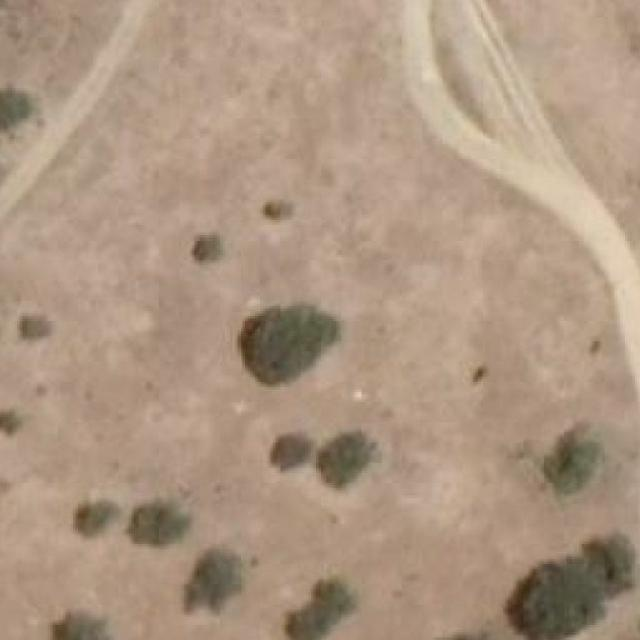Tree: (238, 301, 334, 390), (512, 564, 598, 638), (286, 579, 350, 640), (541, 430, 599, 494), (187, 549, 243, 607), (316, 433, 372, 488), (126, 501, 188, 547), (592, 534, 636, 598), (47, 611, 108, 640), (0, 85, 35, 133), (78, 501, 116, 535), (265, 435, 306, 466), (189, 235, 220, 265), (17, 316, 48, 339), (0, 412, 22, 437), (263, 202, 289, 220)
